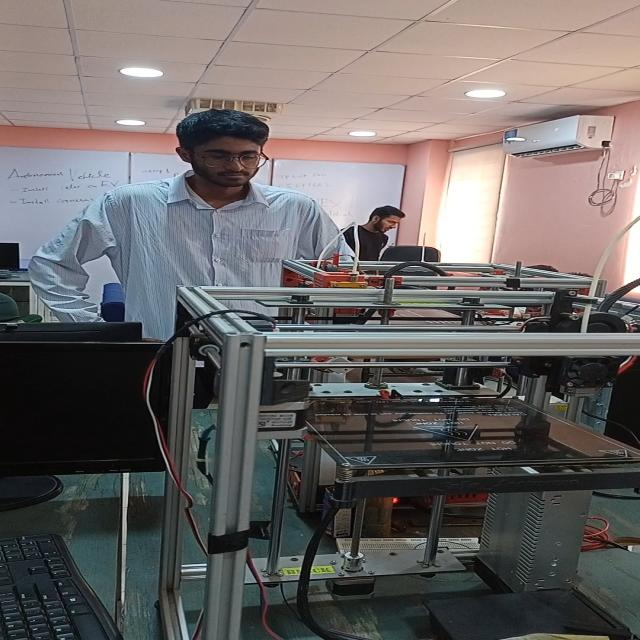dress: (31, 166, 368, 327)
glasses: (196, 148, 270, 172)
